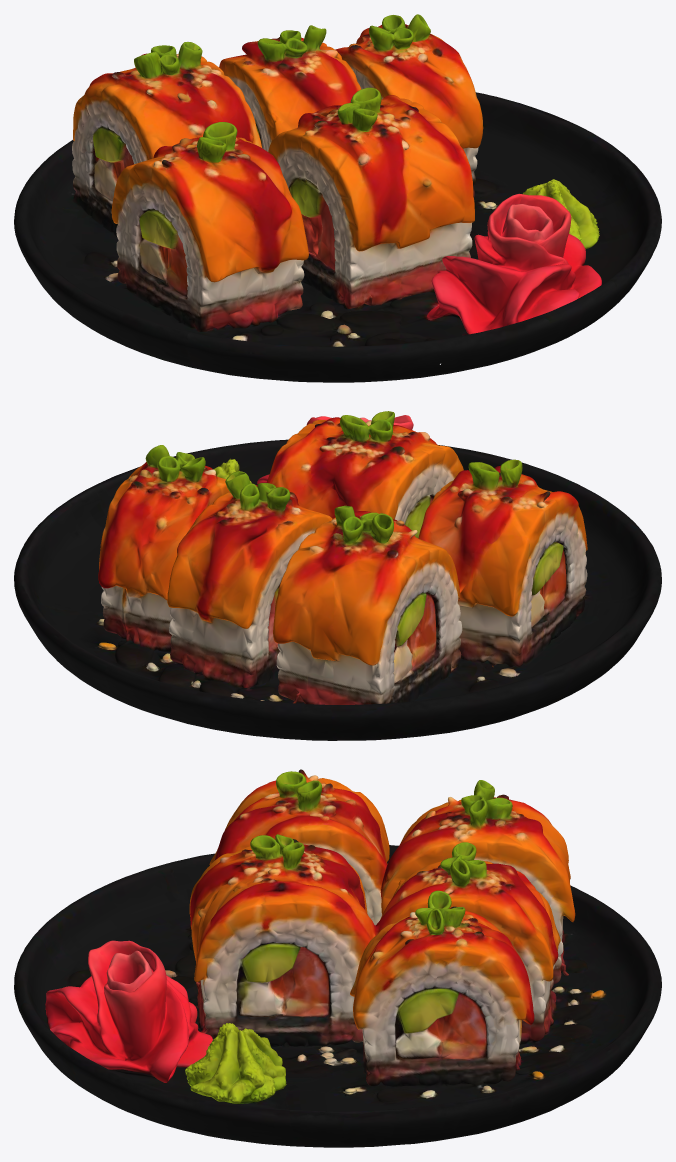
File: salmon-sushi-roll.glb
3 views of the same model, one above another, from view 1: azimuth 30°, elevation 25°; view 2: azimuth 150°, elevation 25°; view 3: azimuth 270°, elevation 25° (orthographic).
Parts seen in each view (by area): view 1: tripo_node_d235cea8-8ec4-4eb6-a40a-5c4dd6e43afd; view 2: tripo_node_d235cea8-8ec4-4eb6-a40a-5c4dd6e43afd; view 3: tripo_node_d235cea8-8ec4-4eb6-a40a-5c4dd6e43afd.
Boxes of the visible parts, bbox=[...] form: tripo_node_d235cea8-8ec4-4eb6-a40a-5c4dd6e43afd: bbox=[14, 14, 661, 382]; tripo_node_d235cea8-8ec4-4eb6-a40a-5c4dd6e43afd: bbox=[14, 411, 661, 740]; tripo_node_d235cea8-8ec4-4eb6-a40a-5c4dd6e43afd: bbox=[14, 769, 661, 1147].
Size of the model in its own units: 0.9792 by 0.3158 by 0.9798.
1 material, 1 textured.
